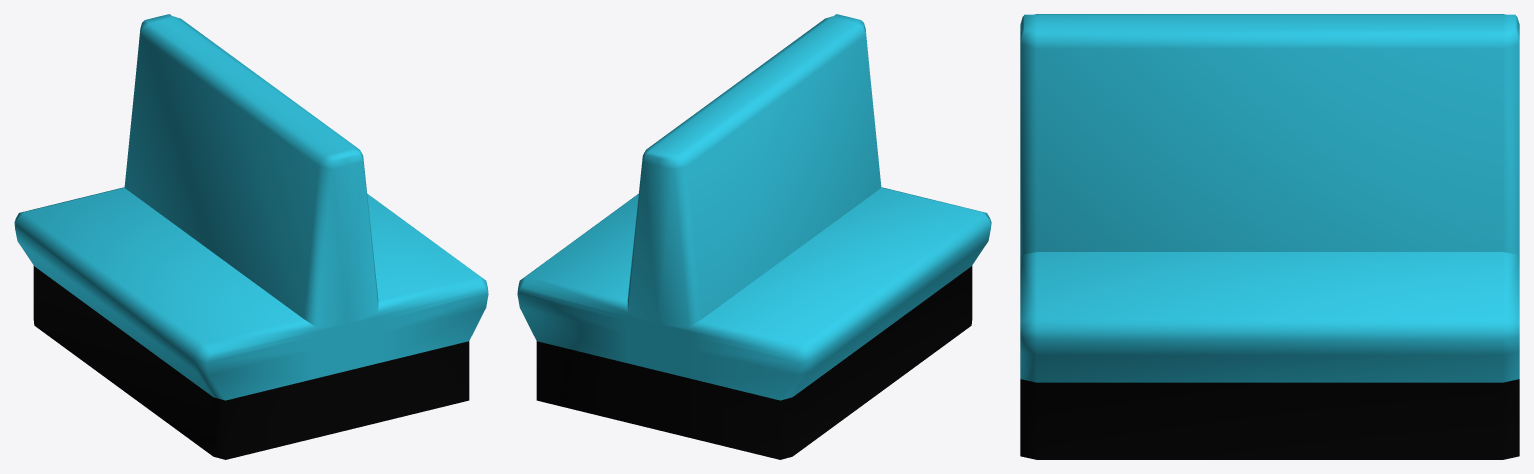
Rendered from Doble.fbx.
3 views of the same model, side by side, from view 1: azimuth 30°, elevation 25°; view 2: azimuth 150°, elevation 25°; view 3: azimuth 270°, elevation 25° (orthographic). The views are drawn at different scales.
Visible parts, largest first — view 1: Doble; view 2: Doble; view 3: Doble.
Boxes of the visible parts, x1,y1,x2,y2 form: Doble: (14, 14, 488, 459); Doble: (517, 14, 991, 459); Doble: (1020, 14, 1519, 459).
Bounding box in the file's own units: 94.74 × 84.43 × 107.
